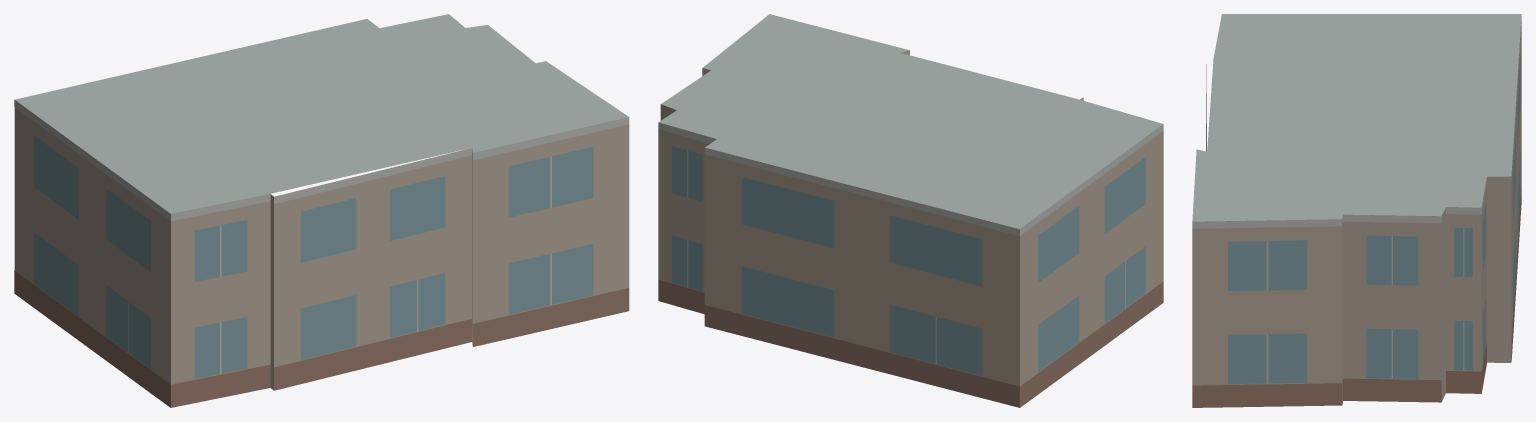
The model's file is survey-upis-32499282.glb.
The picture shows the model from 3 angles, left to right: view 1: azimuth 30°, elevation 25°; view 2: azimuth 150°, elevation 25°; view 3: azimuth 270°, elevation 25°; orthographic projection. The views are drawn at different scales.
Parts seen in each view (by area): view 1: survey-upis-32499282.tmp; view 2: survey-upis-32499282.tmp; view 3: survey-upis-32499282.tmp.
Boxes of the visible parts, x1,y1,x2,y2 form: survey-upis-32499282.tmp: (14, 14, 629, 407); survey-upis-32499282.tmp: (658, 14, 1163, 407); survey-upis-32499282.tmp: (1192, 14, 1521, 407).
Size of the model in its own units: 15.32 by 6.4 by 10.27.
